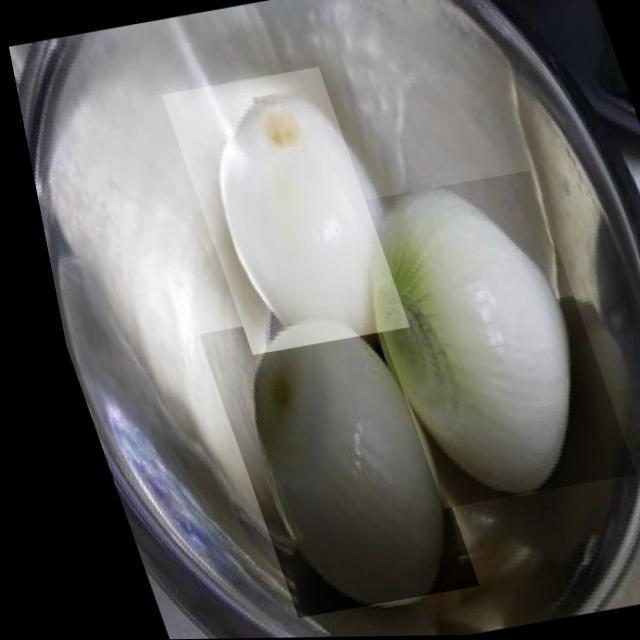Onion: (324, 172, 622, 510), (180, 302, 460, 619), (154, 67, 400, 356)
